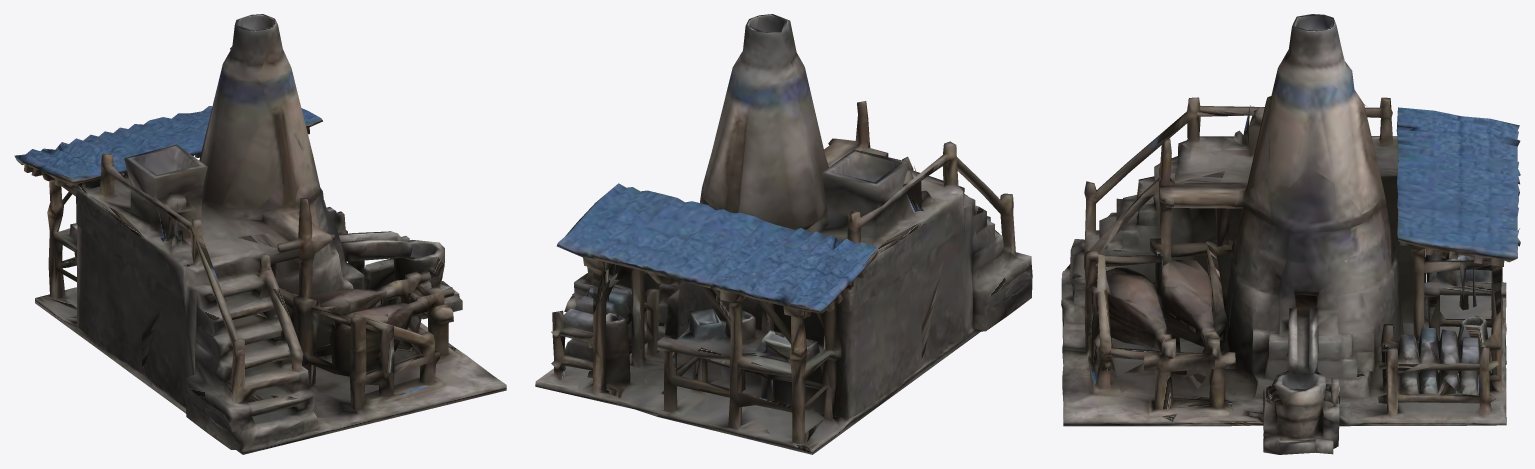
File: smelter_0.glb
3 views of the same model, side by side, from view 1: azimuth 30°, elevation 25°; view 2: azimuth 150°, elevation 25°; view 3: azimuth 270°, elevation 25° (orthographic). The views are drawn at different scales.
Parts seen in each view (by area): view 1: tripo_node_92f6e819-55f6-4774-b9ce-8d6a47e4b874; view 2: tripo_node_92f6e819-55f6-4774-b9ce-8d6a47e4b874; view 3: tripo_node_92f6e819-55f6-4774-b9ce-8d6a47e4b874.
Boxes of the visible parts, x1,y1,x2,y2 form: tripo_node_92f6e819-55f6-4774-b9ce-8d6a47e4b874: (14,14,506,454); tripo_node_92f6e819-55f6-4774-b9ce-8d6a47e4b874: (535,14,1032,454); tripo_node_92f6e819-55f6-4774-b9ce-8d6a47e4b874: (1061,14,1520,454).
Size of the model in its own units: 0.878 by 0.786 by 0.9778.
1 material, 1 textured.
